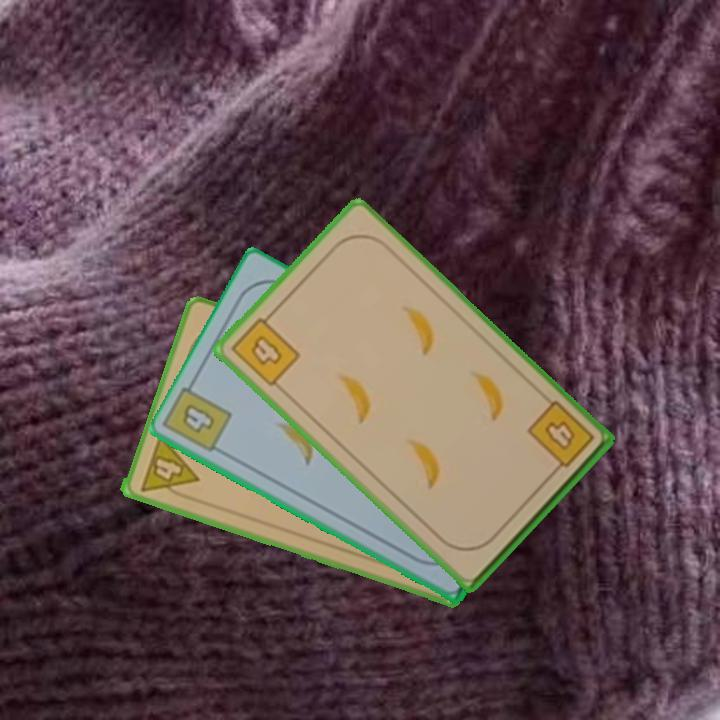4b: (227, 308, 303, 390), (523, 397, 597, 479), (178, 400, 218, 437)
4p: (136, 431, 201, 504)
